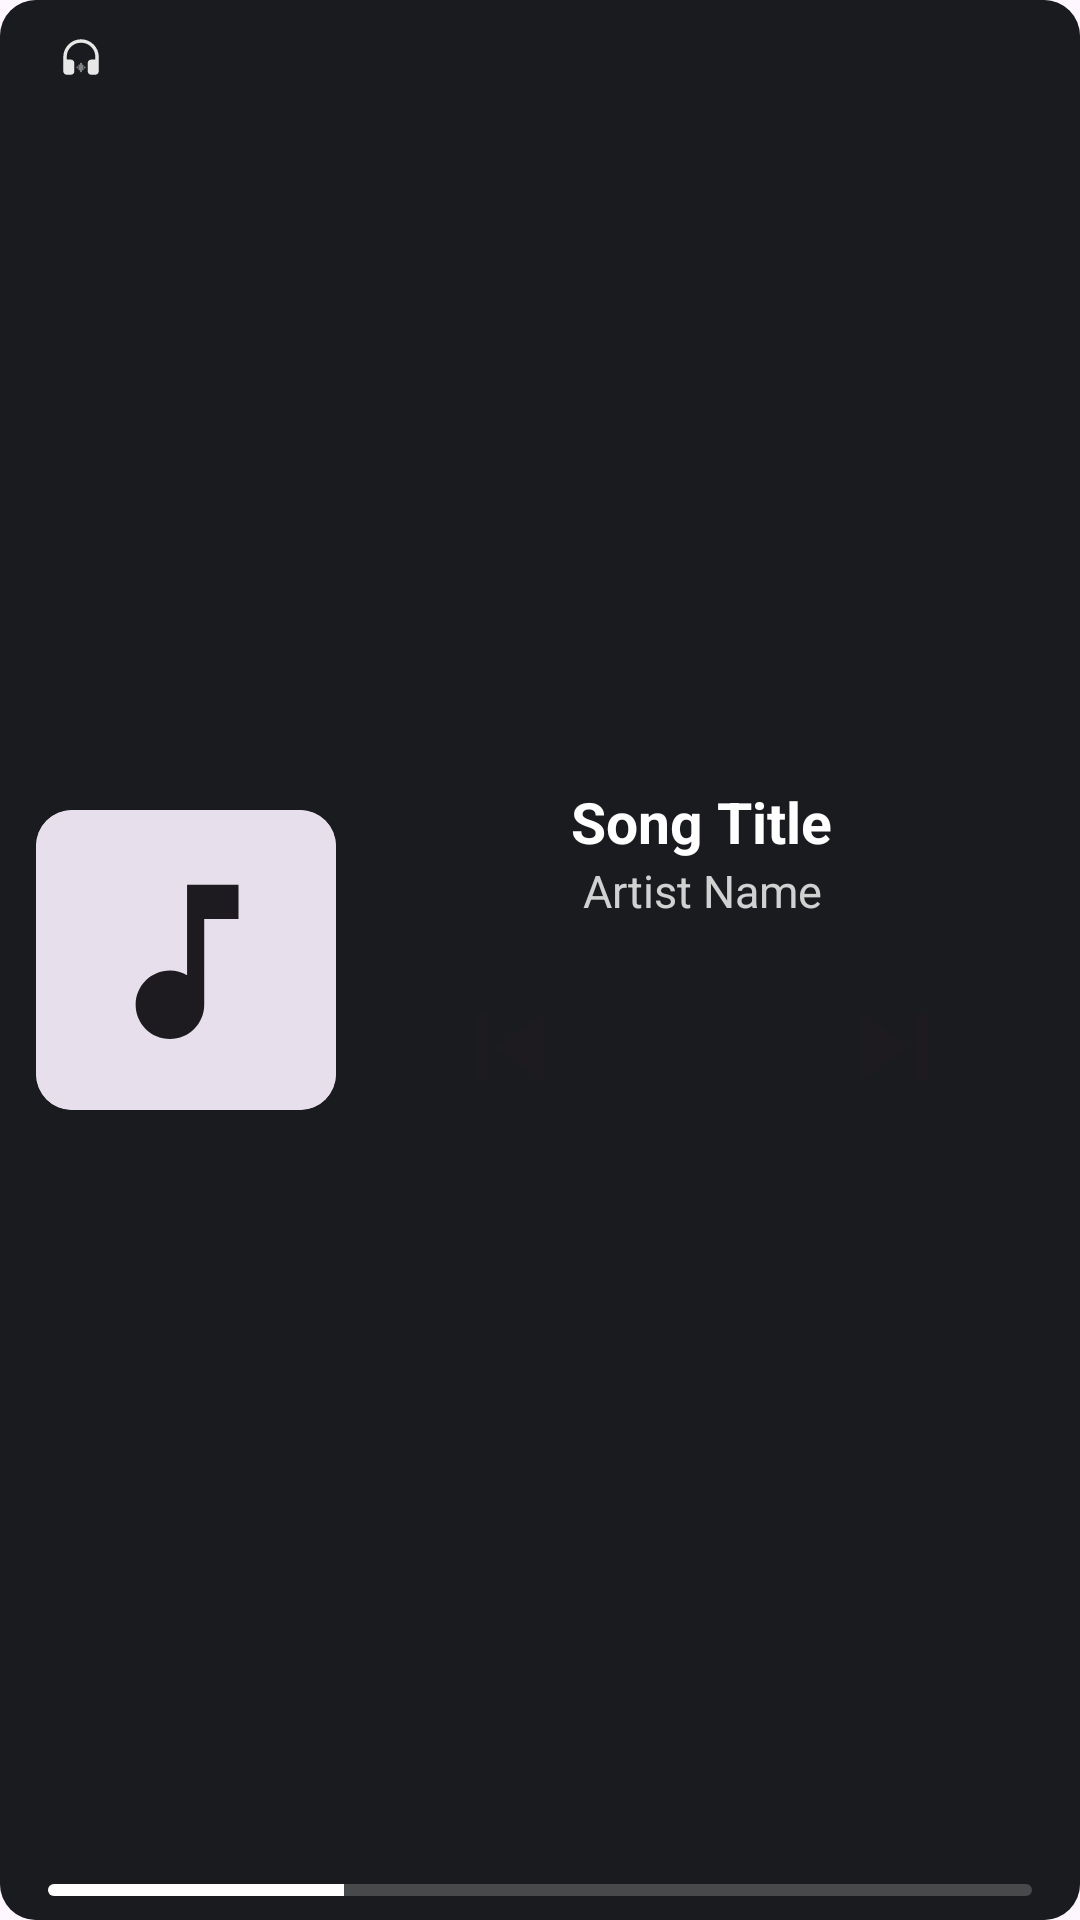

Where to tap for icons on this 1080 × 1920 app screen, as [x,y]:
album art: [186,960]
